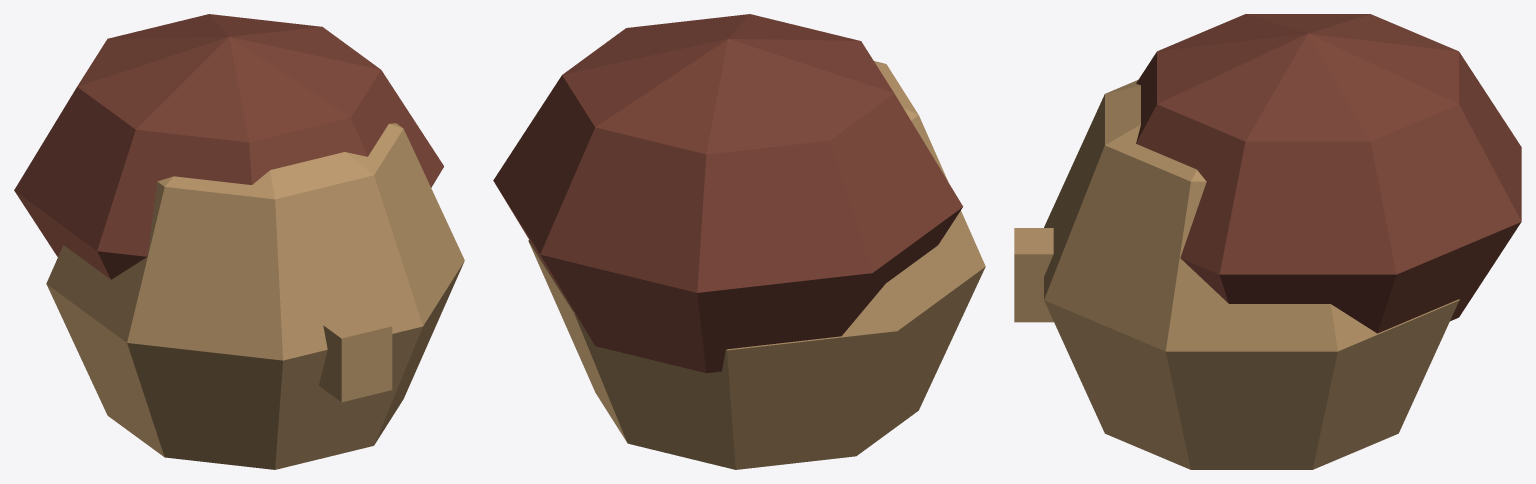
The model's file is villager-head-helper-soot.glb.
The picture shows the model from 3 angles, left to right: view 1: azimuth 30°, elevation 25°; view 2: azimuth 150°, elevation 25°; view 3: azimuth 270°, elevation 25°; orthographic projection. The views are drawn at different scales.
Visible parts, largest first — view 1: head; view 2: head; view 3: head.
Boxes of the visible parts, left/top/right/bottom form: head: left=14, top=14, right=464, bottom=469; head: left=493, top=14, right=985, bottom=469; head: left=1014, top=14, right=1521, bottom=469.
Bounding box in the file's own units: 0.6837 × 0.7664 × 0.8118.
1 material, 1 textured.
